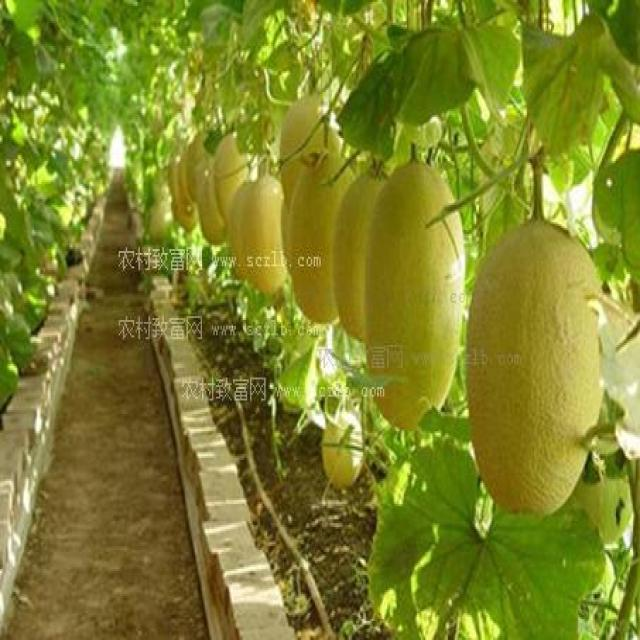Hami Melon: (466, 220, 605, 518), (366, 163, 466, 427), (289, 163, 360, 322), (332, 169, 387, 342), (237, 179, 300, 290)
